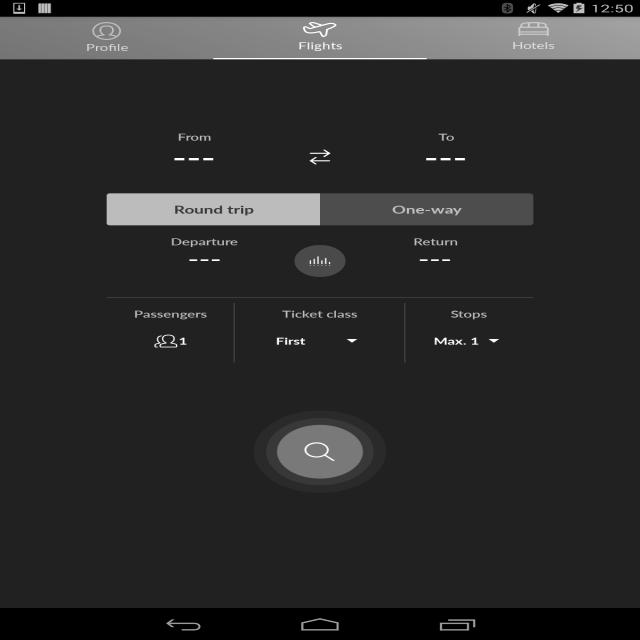ImageView: (282, 133, 358, 181), (282, 237, 358, 285)
Spinner: (276, 325, 362, 357), (434, 325, 504, 357)
TextView: (246, 406, 394, 498), (226, 22, 414, 54), (13, 22, 200, 54), (440, 22, 627, 54), (433, 325, 488, 357), (106, 308, 234, 320), (276, 325, 314, 357), (172, 143, 215, 171), (424, 143, 467, 171), (174, 202, 254, 217), (153, 325, 187, 357), (391, 202, 462, 217), (282, 308, 357, 320), (418, 247, 452, 270), (188, 247, 221, 270), (171, 236, 238, 247), (412, 236, 458, 247), (450, 308, 488, 320), (177, 131, 211, 143), (438, 131, 454, 143)
